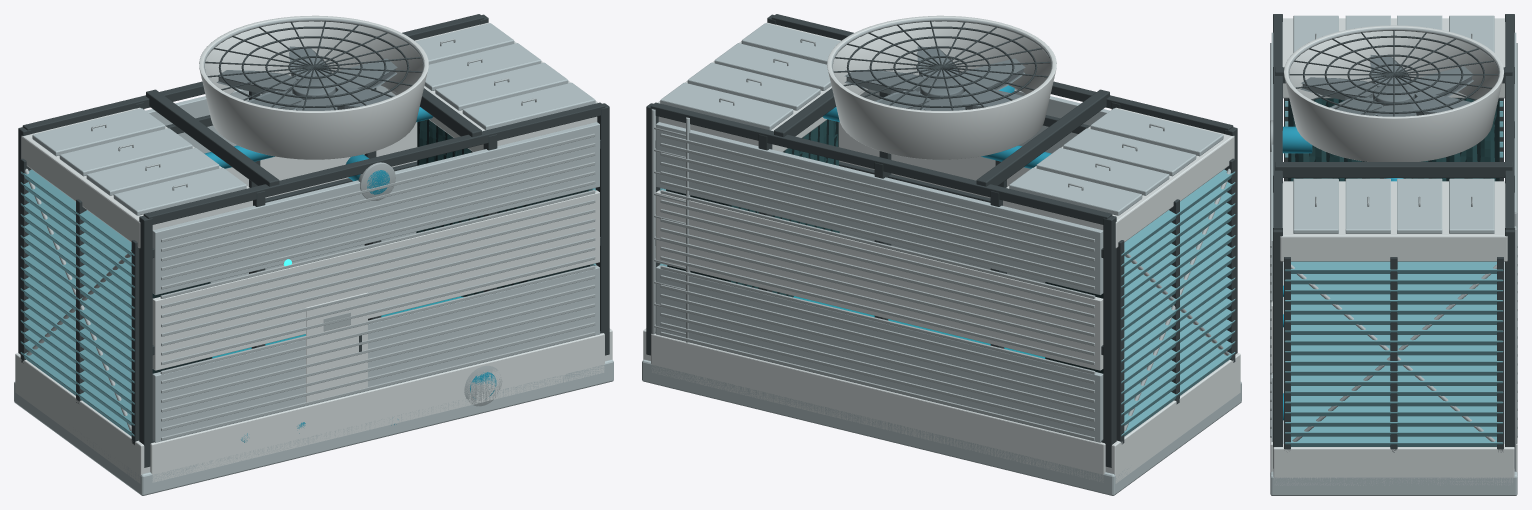
File: cooling-tower-crossflow-generic-v1.glb
3 views of the same model, side by side, from view 1: azimuth 30°, elevation 25°; view 2: azimuth 150°, elevation 25°; view 3: azimuth 270°, elevation 25° (orthographic). The views are drawn at different scales.
Parts seen in each view (by area): view 1: CASING_Front_Panel_2, CASING_Front_Panel_3, CASING_Front_Panel_1, FAN_Stack, BASIN_Wall_Front, BASIN_Base, FRAME_LongBeam_3.03_-1.22, BASIN_Wall_Left, HOT_BASIN_Left_Body, ACCESS_Door, FRAME_Column_-2.66_-1.22, HOT_BASIN_Left_Cover_1 (+69 smaller); view 2: CASING_Rear_Panel_2, CASING_Rear_Panel_3, CASING_Rear_Panel_1, FAN_Stack, BASIN_Wall_Rear, BASIN_Base, FRAME_LongBeam_3.03_+1.22, BASIN_Wall_Left, HOT_BASIN_Left_Body, FRAME_Column_-2.66_+1.22, HOT_BASIN_Left_Cover_4, HOT_BASIN_Right_Cover_4 (+68 smaller); view 3: FAN_Stack, HOT_BASIN_Right_Body, BASIN_Wall_Right, BASIN_Base, FAN_DeckBeam_+1.18, LOUVER_Right_18, HOT_BASIN_Right_Cover_2, HOT_BASIN_Right_Cover_3, HOT_BASIN_Right_Cover_1, HOT_BASIN_Right_Cover_4, LOUVER_Right_09, LOUVER_Right_01 (+48 smaller).
Part boxes in pixels (<box>): CASING_Front_Panel_2: <box>152,190,599,370</box>; CASING_Front_Panel_3: <box>152,122,599,295</box>; CASING_Front_Panel_1: <box>152,265,599,442</box>; FAN_Stack: <box>199,15,428,159</box>; BASIN_Wall_Front: <box>150,333,604,482</box>; BASIN_Base: <box>14,359,613,495</box>; FRAME_LongBeam_3.03_-1.22: <box>143,102,605,224</box>; BASIN_Wall_Left: <box>15,353,150,483</box>; HOT_BASIN_Left_Body: <box>21,107,252,248</box>; ACCESS_Door: <box>306,292,367,402</box>; FRAME_Column_-2.66_-1.22: <box>139,215,152,467</box>; HOT_BASIN_Left_Cover_1: <box>113,167,246,215</box>; CASING_Rear_Panel_2: <box>656,190,1103,370</box>; CASING_Rear_Panel_3: <box>656,122,1103,295</box>; CASING_Rear_Panel_1: <box>656,265,1103,442</box>; FAN_Stack: <box>827,15,1056,159</box>; BASIN_Wall_Rear: <box>651,333,1105,482</box>; BASIN_Base: <box>642,359,1241,495</box>; FRAME_LongBeam_3.03_+1.22: <box>650,102,1112,224</box>; BASIN_Wall_Left: <box>1105,353,1240,483</box>; HOT_BASIN_Left_Body: <box>1003,107,1234,248</box>; FRAME_Column_-2.66_+1.22: <box>1103,215,1116,467</box>; HOT_BASIN_Left_Cover_4: <box>1009,167,1142,215</box>; HOT_BASIN_Right_Cover_4: <box>660,82,793,130</box>; FAN_Stack: <box>1284,25,1503,161</box>; HOT_BASIN_Right_Body: <box>1280,181,1507,261</box>; BASIN_Wall_Right: <box>1273,444,1514,485</box>; BASIN_Base: <box>1270,261,1517,495</box>; FAN_DeckBeam_+1.18: <box>1275,162,1512,177</box>; LOUVER_Right_18: <box>1284,261,1503,273</box>; HOT_BASIN_Right_Cover_2: <box>1345,178,1390,233</box>; HOT_BASIN_Right_Cover_3: <box>1397,178,1442,233</box>; HOT_BASIN_Right_Cover_1: <box>1293,178,1338,233</box>; HOT_BASIN_Right_Cover_4: <box>1449,178,1494,233</box>; LOUVER_Right_09: <box>1284,355,1503,365</box>; LOUVER_Right_01: <box>1284,436,1503,446</box>.
Bounding box in the file's own units: 5.51 × 3.65 × 2.61.
